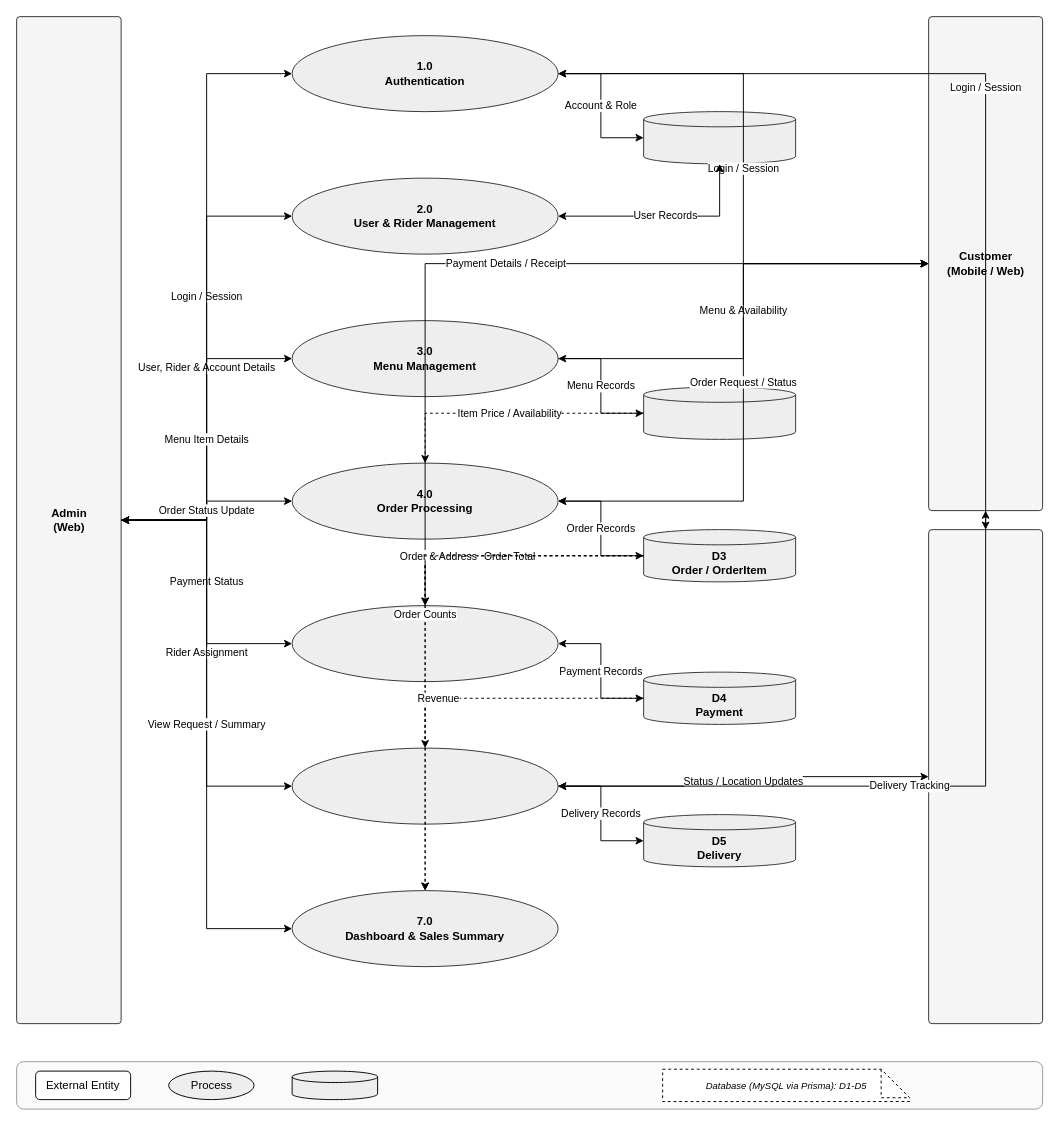
Some shapes in this 1059 by 1126 pixel diagram are drawn without their labels. Here are the shapes that lost their labels. From the top down, the box of each, then its label:
(643, 111, 796, 164): D1 User
(643, 386, 796, 439): D2 MenuItem
(291, 605, 558, 682): 5.0 Payment Processing
(291, 747, 558, 824): 6.0 Delivery Assignment & Tracking
(928, 529, 1043, 1024): Rider (Mobile / Web)
(291, 1070, 378, 1100): Data Store
